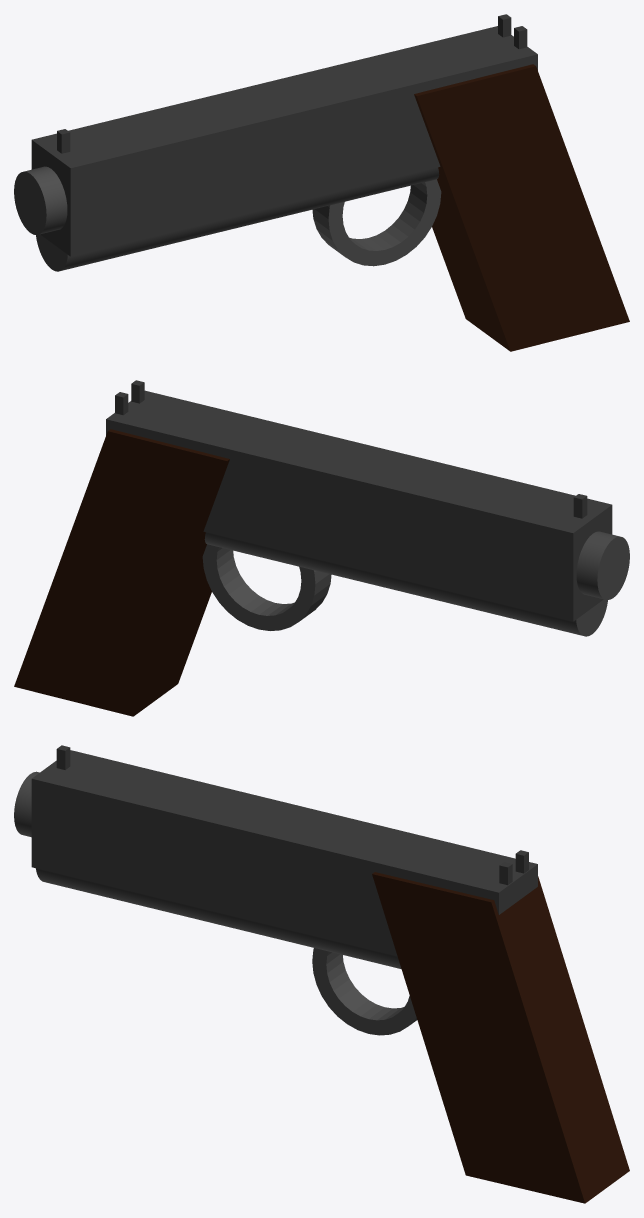
File: Beretta.glb
3 views of the same model, one above another, from view 1: azimuth 30°, elevation 25°; view 2: azimuth 150°, elevation 25°; view 3: azimuth 330°, elevation 25° (orthographic).
Visible parts, largest first — view 1: Corpo, Calcio, Corpo_sotto, Grilletto, Canna; view 2: Corpo, Calcio, Corpo_sotto, Grilletto, Canna; view 3: Corpo, Calcio, Corpo_sotto, Grilletto, Canna.
Boxes of the visible parts, box(x1,y1,x2,y2) form: Corpo: box(31, 26, 537, 256); Calcio: box(414, 64, 629, 351); Corpo_sotto: box(36, 167, 439, 271); Grilletto: box(312, 179, 441, 266); Canna: box(14, 166, 67, 235); Corpo: box(106, 390, 612, 621); Calcio: box(14, 429, 229, 716); Corpo_sotto: box(204, 532, 607, 636); Grilletto: box(202, 544, 331, 630); Canna: box(576, 531, 629, 599); Corpo: box(31, 750, 537, 956); Calcio: box(372, 872, 629, 1203); Corpo_sotto: box(36, 868, 401, 968); Grilletto: box(312, 948, 417, 1035); Canna: box(14, 771, 39, 837).
Bounding box in the file's own units: 0.2046 × 0.1041 × 0.0275.
